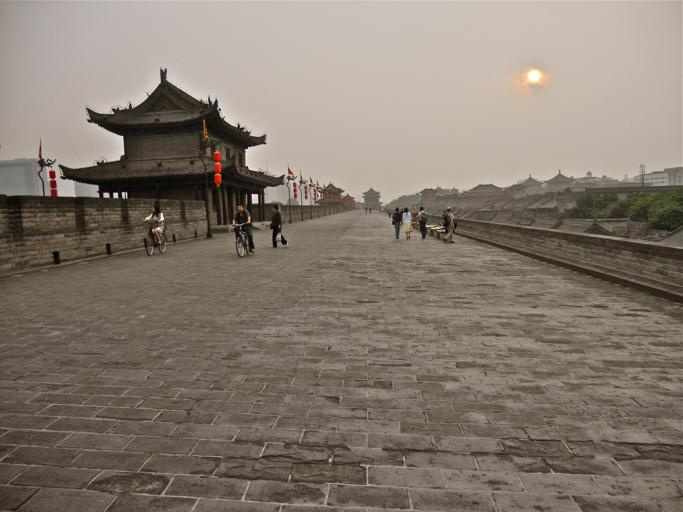non-vehicle: (141, 218, 167, 257), (231, 221, 252, 256)
